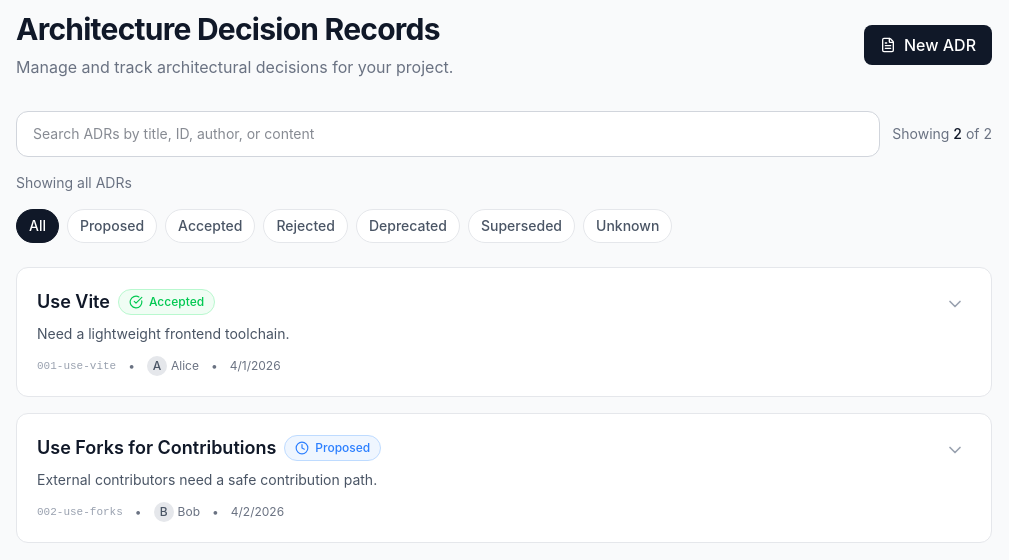
Test: AdrList › shows a no matches state when filters exclude all ADRs
Type "does-not-exist" into the search field labelled "Search ADRs by title, ID, author, or content" at [448, 134], box [16,111,880,157]
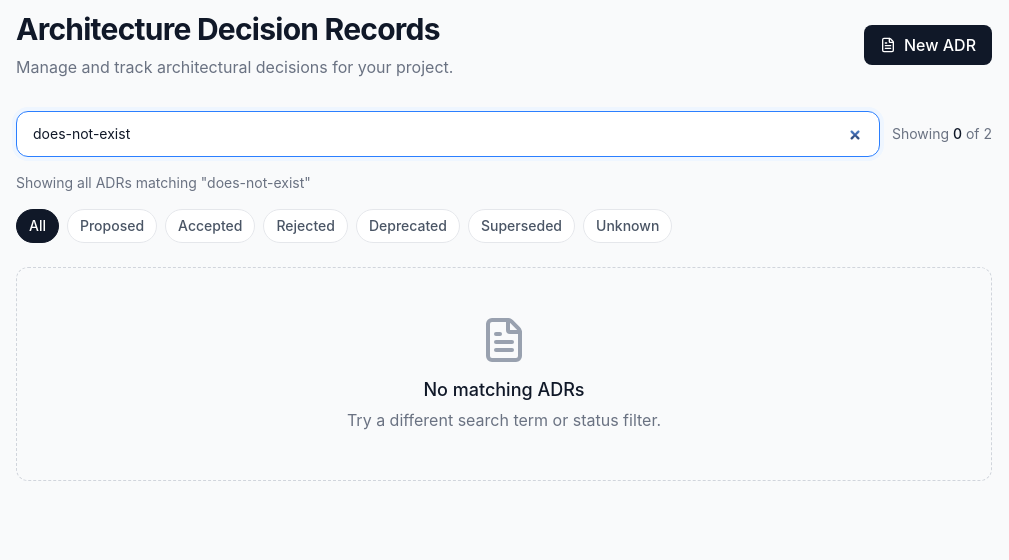
Result: the heading "No matching ADRs" is shown at [424,379,585,400]
